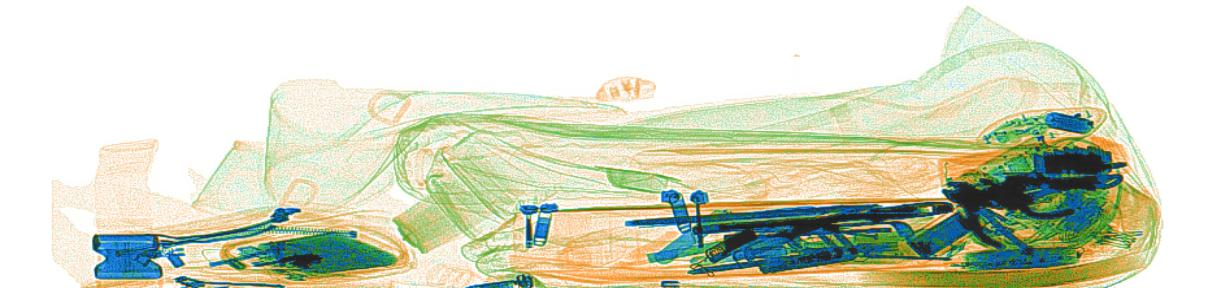battery: (1043, 112, 1092, 134)
